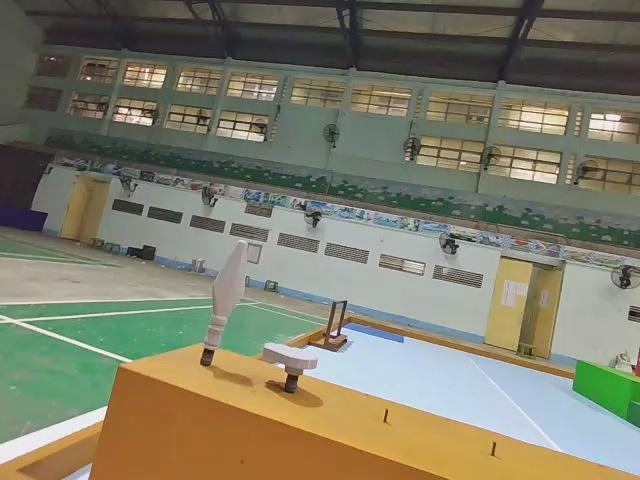Hand: (263, 340, 319, 394)
Sph: (200, 238, 249, 368)
